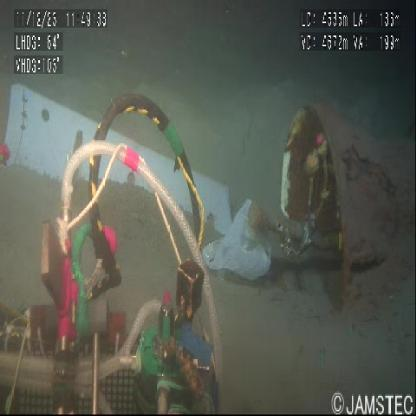Rác: (203, 201, 273, 282)
